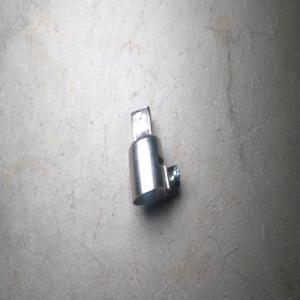MetalPart: (127, 104, 180, 205)
